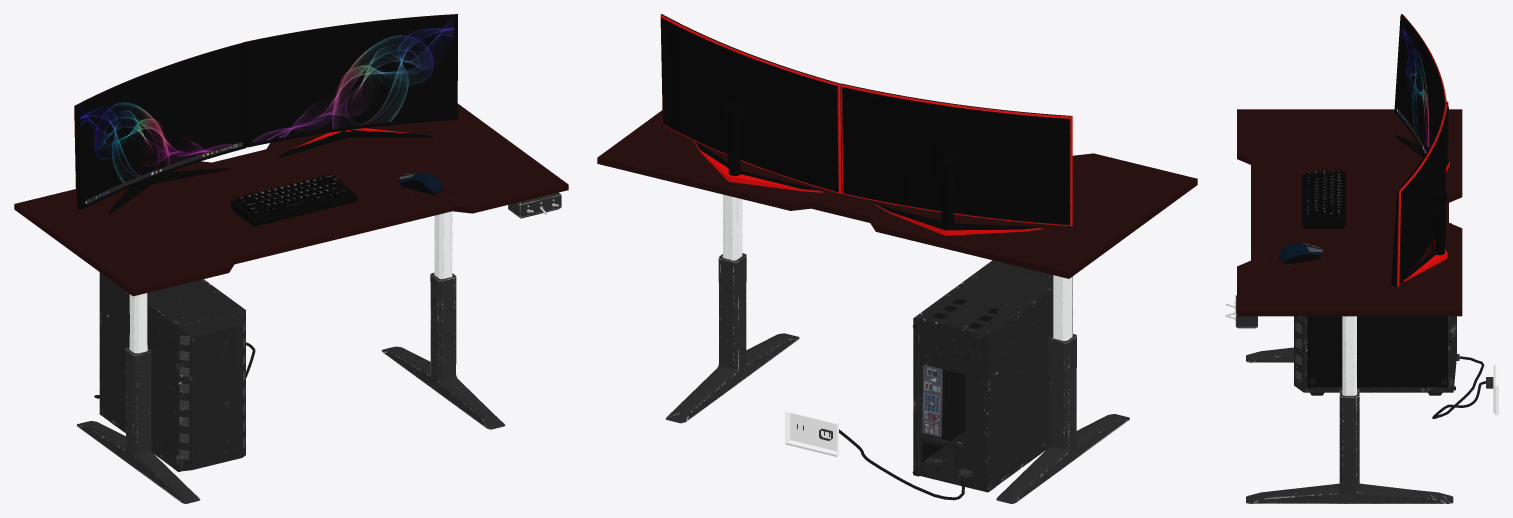
The model's file is desk-transformed.glb.
3 renders of one model, left to right at view 1: azimuth 30°, elevation 25°; view 2: azimuth 150°, elevation 25°; view 3: azimuth 270°, elevation 25°, orthographic. The views are drawn at different scales.
Parts seen in each view (by area): view 1: Object_3, Object_6, Object_8, Object_2, Object_5, Object_7, Object_4; view 2: Object_5, Object_8, Object_3, Object_2; view 3: Object_3, Object_8, Object_2, Object_5, Object_6, Object_7, Object_4.
Part boxes in pixels (x1,y1,x2,y2): Object_3: (14, 103, 568, 296); Object_6: (79, 17, 453, 204); Object_8: (94, 272, 255, 471); Object_2: (76, 192, 561, 503); Object_5: (74, 14, 457, 214); Object_7: (231, 174, 357, 226); Object_4: (399, 172, 442, 194); Object_5: (660, 14, 1072, 235); Object_8: (785, 260, 1072, 500); Object_3: (597, 110, 1197, 278); Object_2: (665, 194, 1129, 503); Object_3: (1237, 109, 1462, 316); Object_8: (1294, 223, 1498, 418); Object_2: (1226, 295, 1453, 503); Object_5: (1391, 14, 1449, 287); Object_6: (1396, 20, 1442, 153); Object_7: (1302, 169, 1345, 228); Object_4: (1278, 242, 1322, 264).
Size of the model in its own units: 5.41 by 4.1 by 3.09.
Materials: 7 (7 with a texture image).
